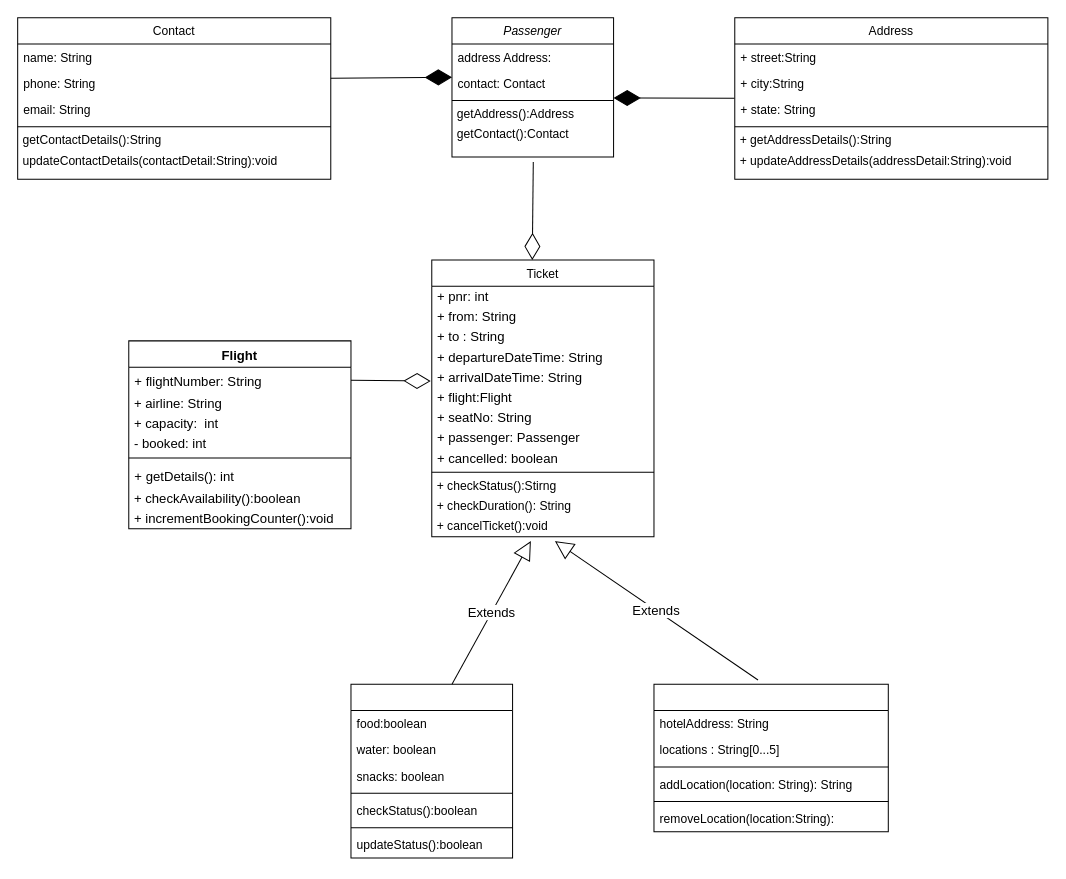
This 1066x879 diagram has some shape labels left out. Here are the shapes that lost their labels. From the top down, the box of each, then its label:
(350, 683, 513, 858): Regular
(653, 683, 888, 832): Tourist
